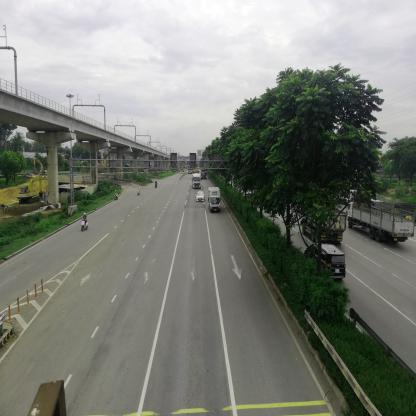car: (307, 244, 346, 276), (196, 192, 205, 203)
motorbike: (81, 217, 90, 233), (116, 190, 119, 203), (139, 188, 141, 199), (156, 182, 159, 189)
truck: (349, 204, 413, 243), (210, 187, 222, 212), (193, 174, 201, 190), (203, 171, 208, 179)
